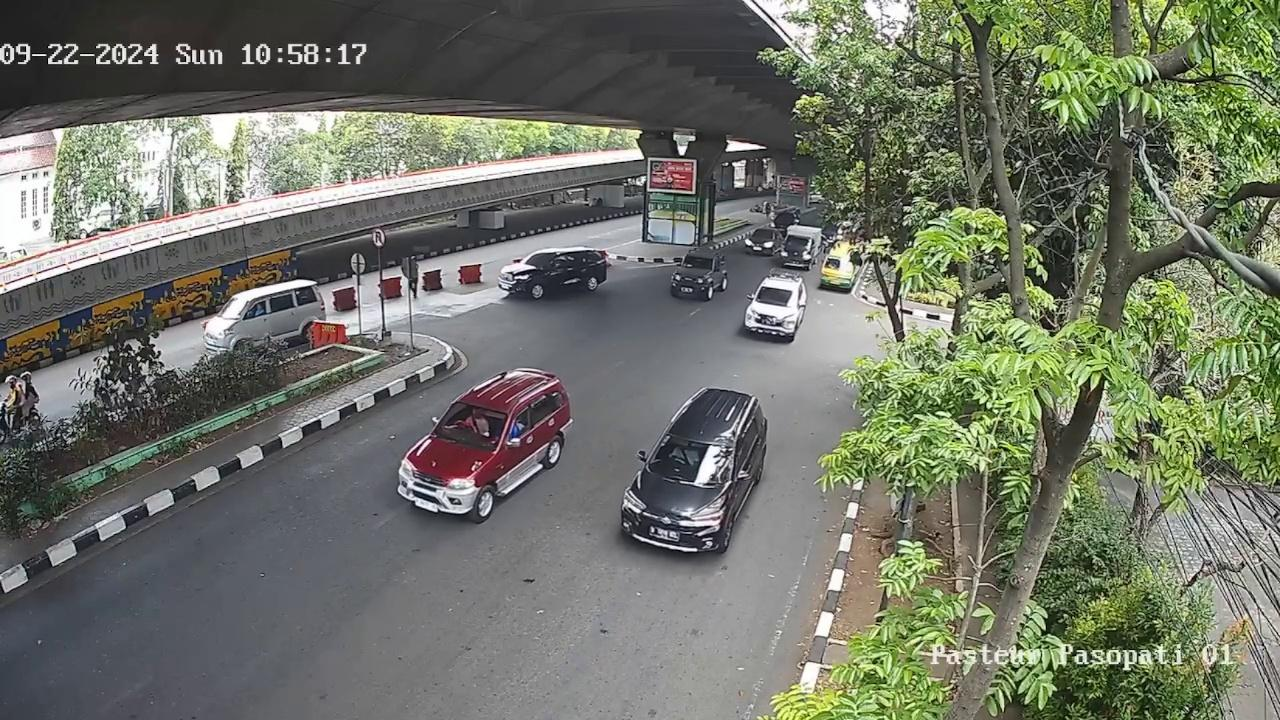pakai: (458, 412, 492, 436), (669, 442, 698, 470)
windshield: (651, 435, 735, 481), (438, 402, 510, 442), (757, 287, 797, 306)
